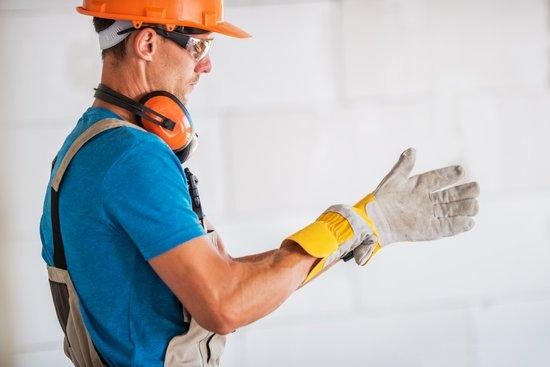helmet: (73, 1, 258, 41)
